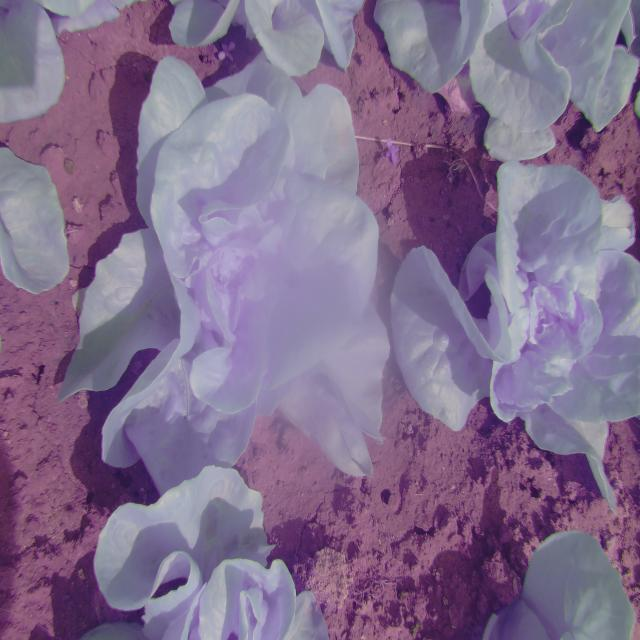vege: (78, 56, 390, 480)
